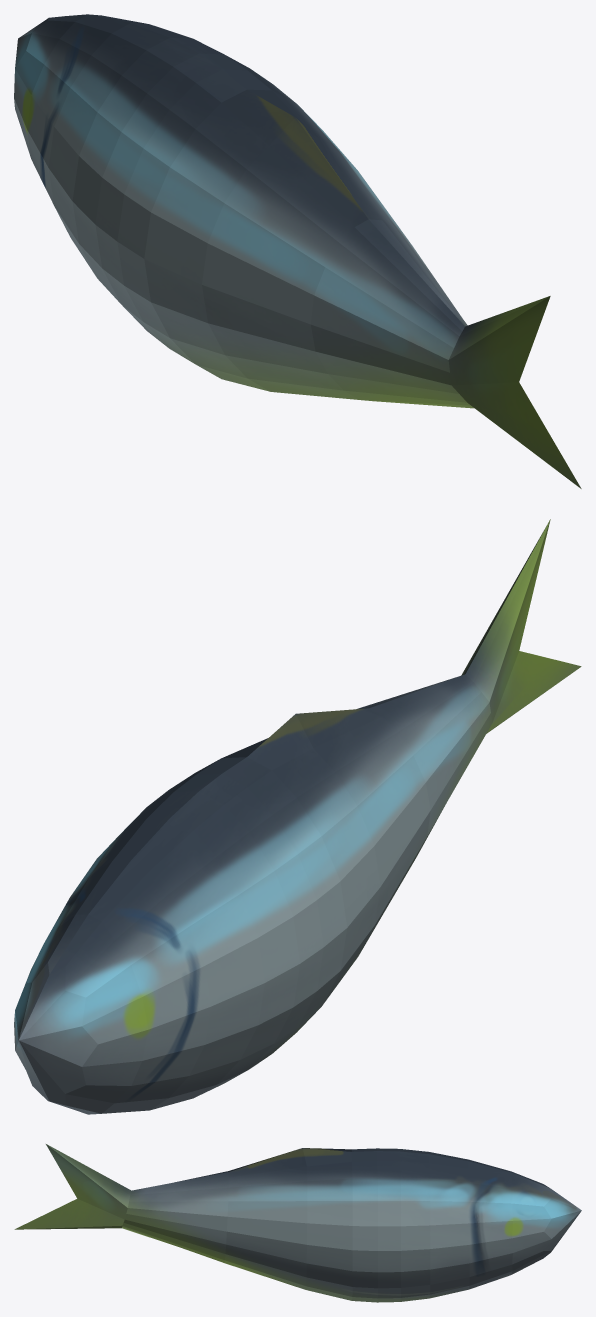
Rendered from Fish1.fbx.
3 renders of one model, top to bottom at view 1: azimuth 30°, elevation 25°; view 2: azimuth 150°, elevation 25°; view 3: azimuth 270°, elevation 25°, orthographic. The views are drawn at different scales.
Parts seen in each view (by area): view 1: Cylinder; view 2: Cylinder; view 3: Cylinder.
Boxes of the visible parts, x1,y1,x2,y2 form: Cylinder: (14,14,581,488); Cylinder: (14,519,581,1114); Cylinder: (14,1144,581,1302).
Bounding box in the file's own units: 12.63 × 18.05 × 59.44.
